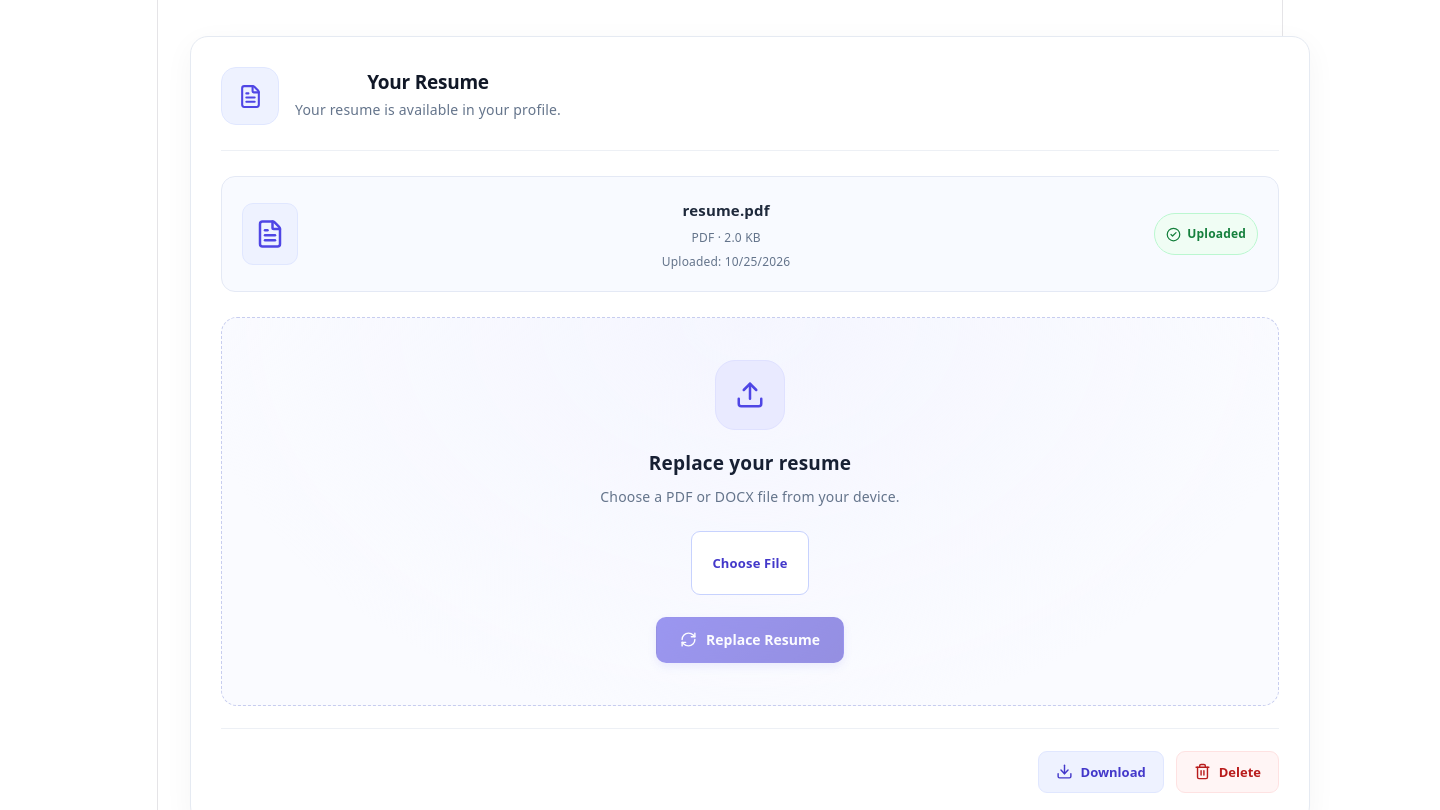
Test case: ResumeManagement › shows an error when resume deletion fails
Expected: the text "resume.pdf" is shown, [682, 200, 770, 220]
Click the button "Delete" at (1227, 772), box [1176, 751, 1279, 793]
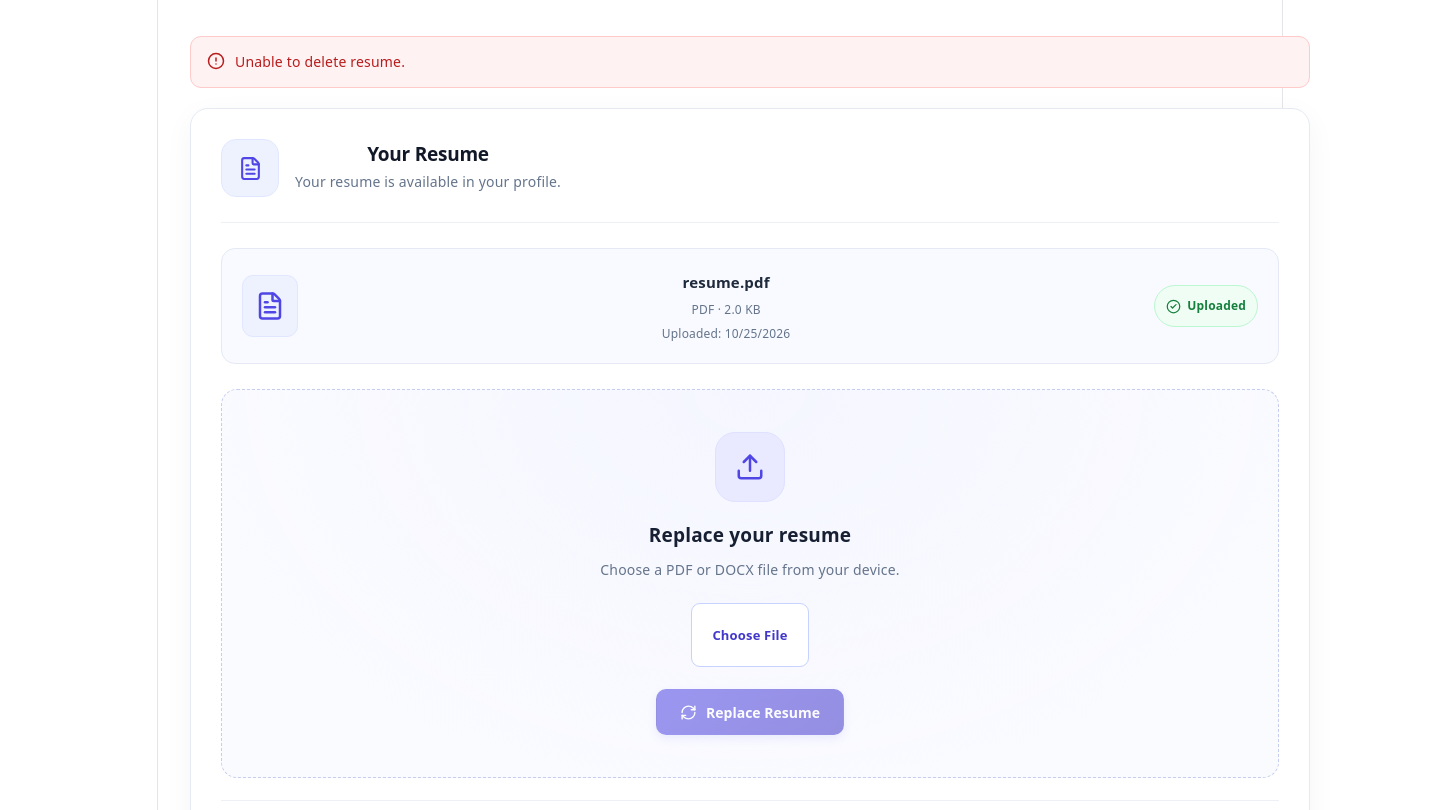
Expected: the text "resume.pdf" is shown, [682, 272, 770, 292]
Expected: the text "Unable to delete resume." is shown, [235, 51, 405, 73]
